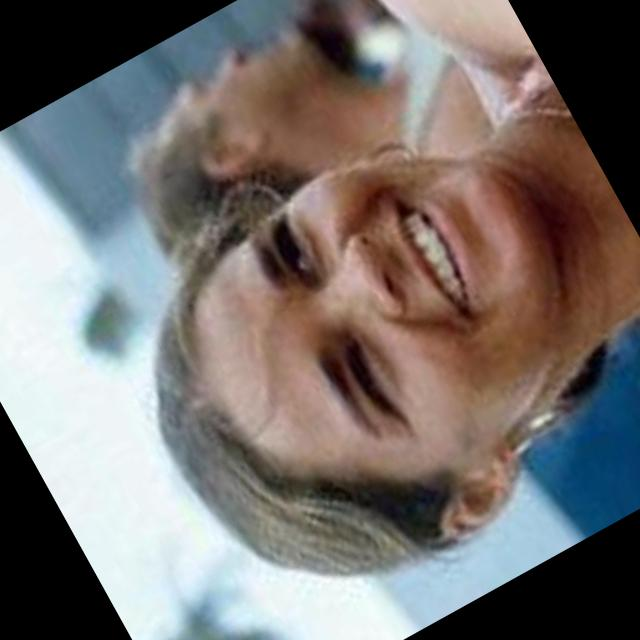bareface: (65, 82, 617, 624)
